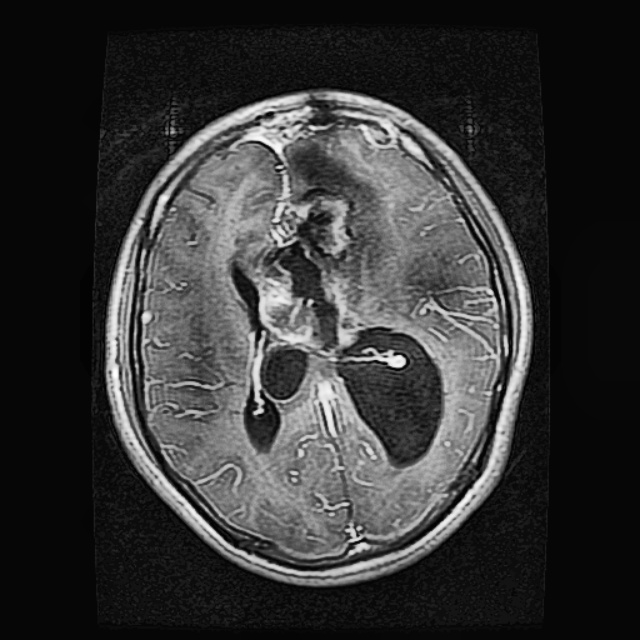Glioma: (232, 132, 397, 352)
